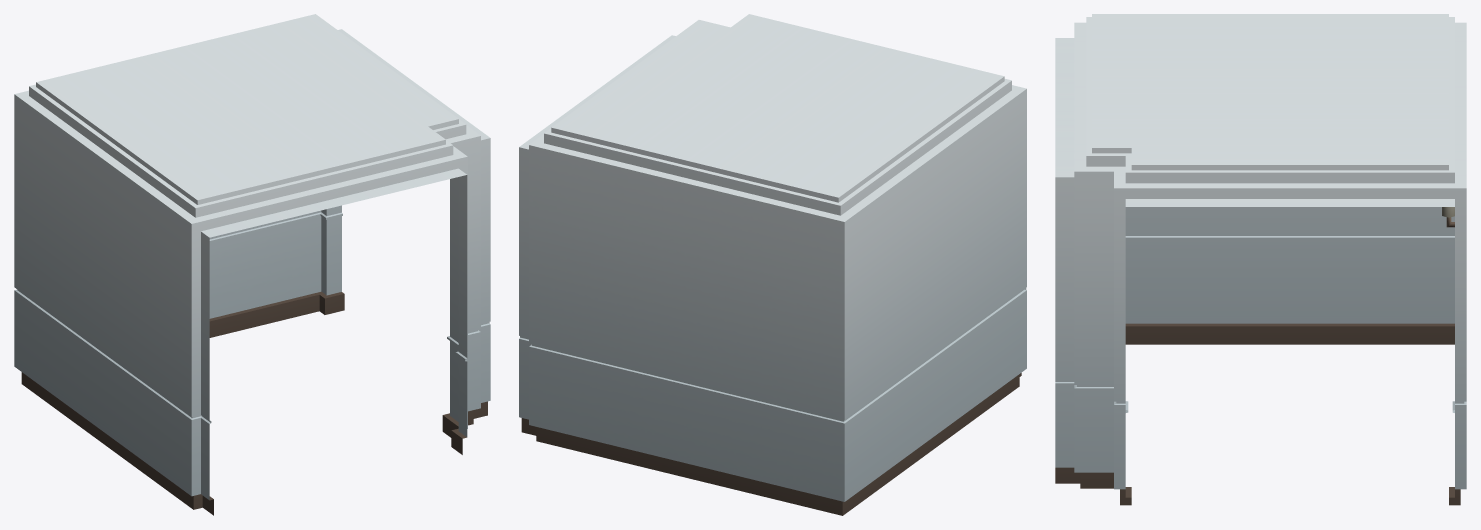
Rendered from 4m_corner.fbx.
3 renders of one model, left to right at view 1: azimuth 30°, elevation 25°; view 2: azimuth 150°, elevation 25°; view 3: azimuth 270°, elevation 25°, orthographic. The views are drawn at different scales.
Parts seen in each view (by area): view 1: 4m_corner; view 2: 4m_corner; view 3: 4m_corner.
Part boxes in pixels (left/top/right/bottom): 4m_corner: left=14, top=14, right=490, bottom=515; 4m_corner: left=519, top=14, right=1026, bottom=515; 4m_corner: left=1055, top=14, right=1466, bottom=505.
Bounding box in the file's own units: 350 × 315 × 350.
